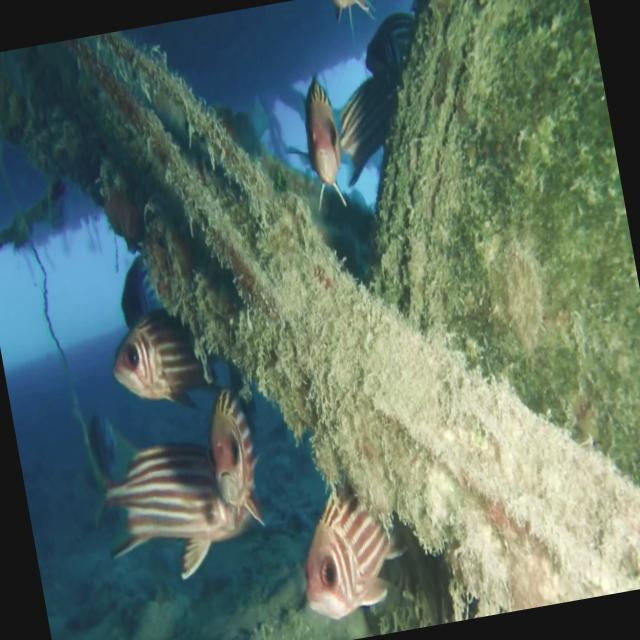Asker Baligi: (79, 382, 278, 594), (286, 468, 418, 626)
